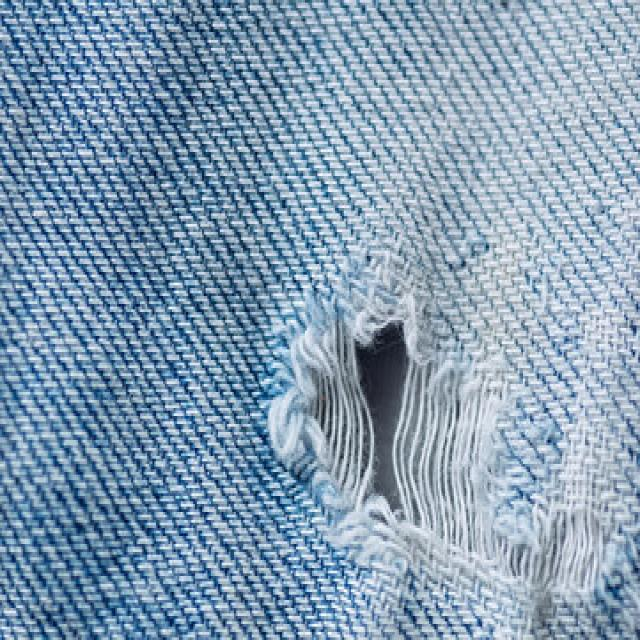hole: (270, 239, 615, 602)
